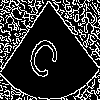C: (24, 25, 67, 85)
